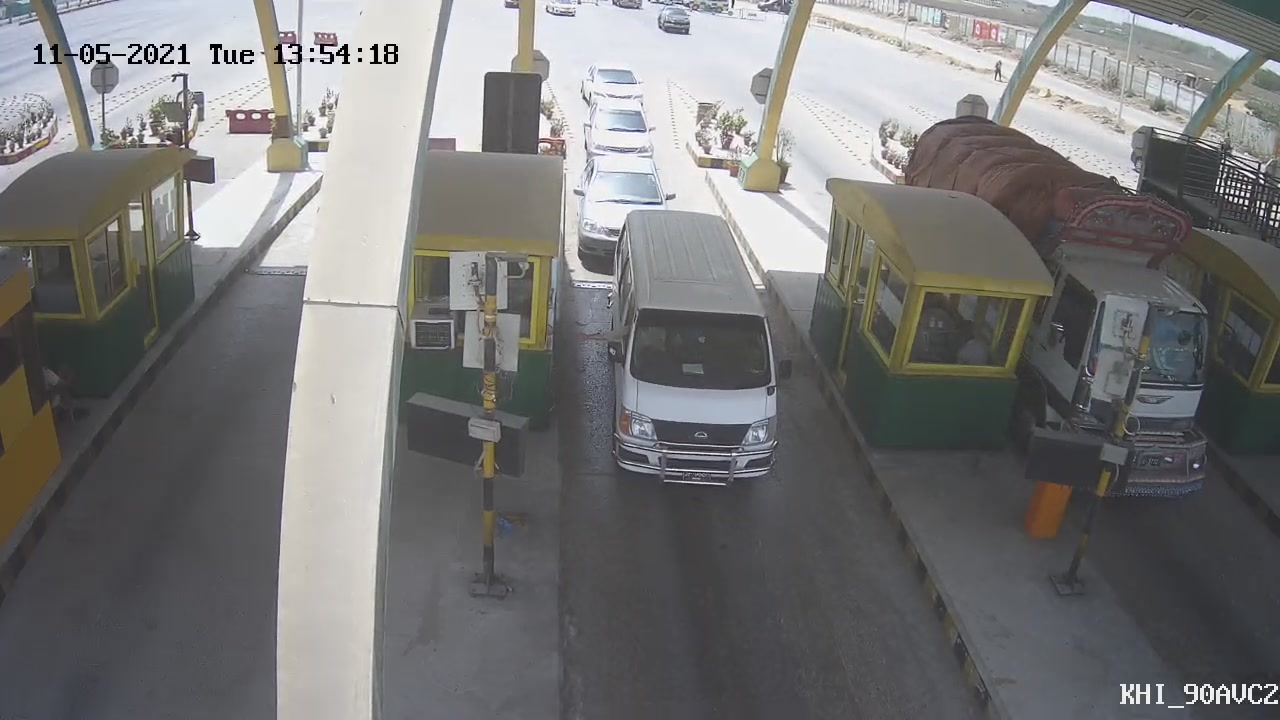F2: (603, 205, 781, 499)
